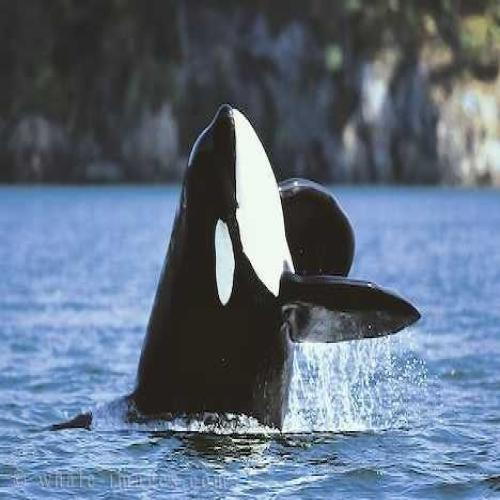killer_whale-endangered: (106, 73, 399, 460)
